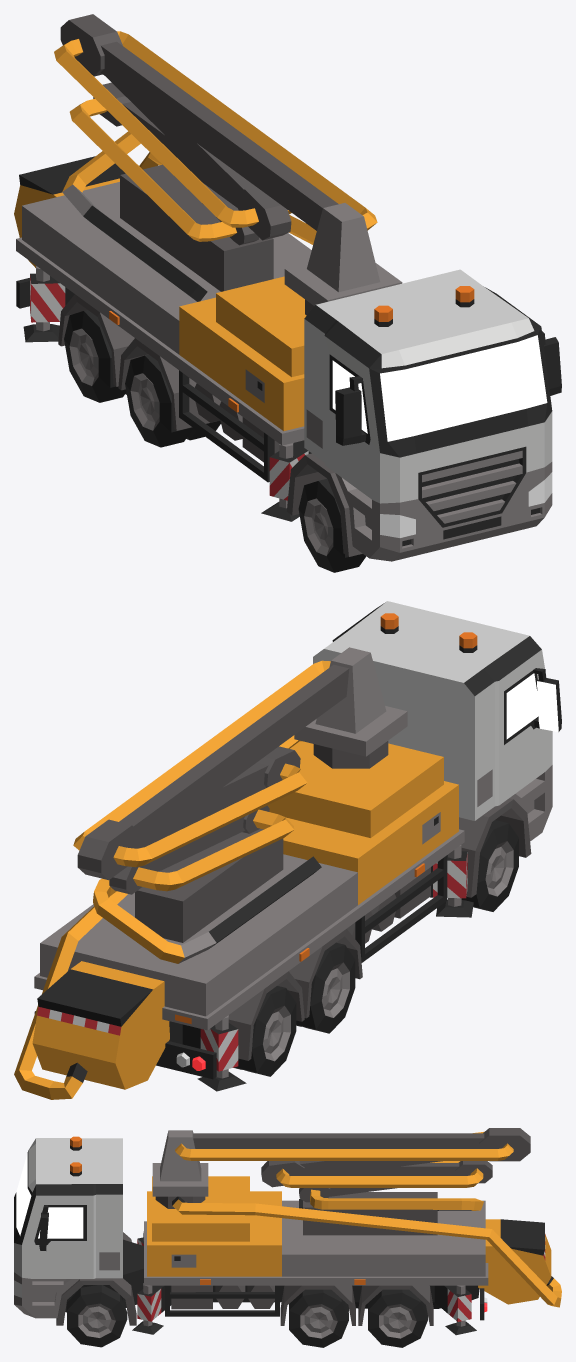
Rendered from vehicles-car-truck-concrete-pump.glb.
3 renders of one model, top to bottom at view 1: azimuth 30°, elevation 25°; view 2: azimuth 150°, elevation 25°; view 3: azimuth 270°, elevation 25°, orthographic. The views are drawn at different scales.
Visible parts, largest first — view 1: car-truck-concrete-pump-base, car-truck-concrete-pump-wheel_BR1, car-truck-concrete-pump-wheel_BR2, car-truck-concrete-pump-wheel_FR; view 2: car-truck-concrete-pump-base, car-truck-concrete-pump-wheel_BR1, car-truck-concrete-pump-wheel_BR2, car-truck-concrete-pump-wheel_FR; view 3: car-truck-concrete-pump-base, car-truck-concrete-pump-wheel_FL, car-truck-concrete-pump-wheel_BL1, car-truck-concrete-pump-wheel_BL2.
Boxes of the visible parts, x1=… form: car-truck-concrete-pump-base: x1=14, y1=14, x2=561, y2=561; car-truck-concrete-pump-wheel_BR1: x1=125, y1=354, x2=220, y2=447; car-truck-concrete-pump-wheel_BR2: x1=64, y1=310, x2=126, y2=402; car-truck-concrete-pump-wheel_FR: x1=298, y1=479, x2=365, y2=572; car-truck-concrete-pump-base: x1=14, y1=601, x2=561, y2=1099; car-truck-concrete-pump-wheel_BR1: x1=296, y1=942, x2=355, y2=1033; car-truck-concrete-pump-wheel_BR2: x1=233, y1=986, x2=296, y2=1076; car-truck-concrete-pump-wheel_FR: x1=461, y1=820, x2=518, y2=911; car-truck-concrete-pump-base: x1=14, y1=1128, x2=561, y2=1335; car-truck-concrete-pump-wheel_FL: x1=67, y1=1285, x2=127, y2=1347; car-truck-concrete-pump-wheel_BL1: x1=289, y1=1289, x2=348, y2=1347; car-truck-concrete-pump-wheel_BL2: x1=368, y1=1289, x2=427, y2=1347.
Bounding box in the file's own units: 2.99 × 3.74 × 9.85.
